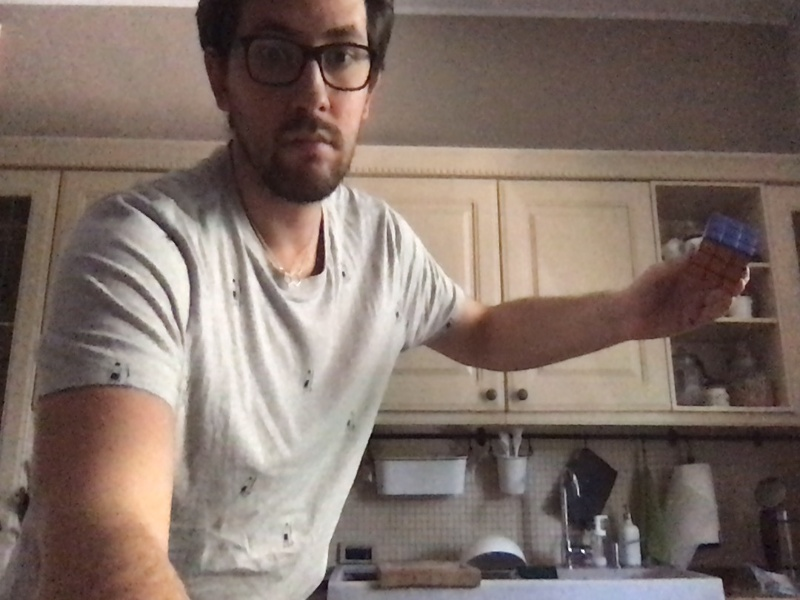rubik: (689, 212, 761, 296)
